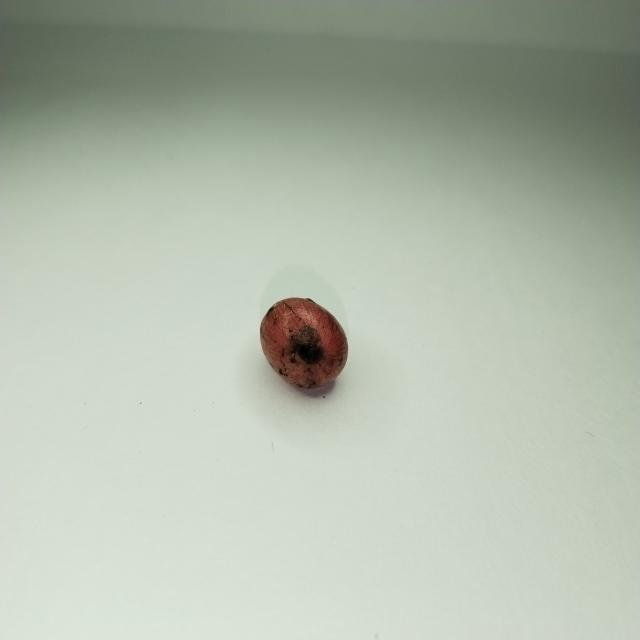Infectado: (260, 298, 347, 394)
